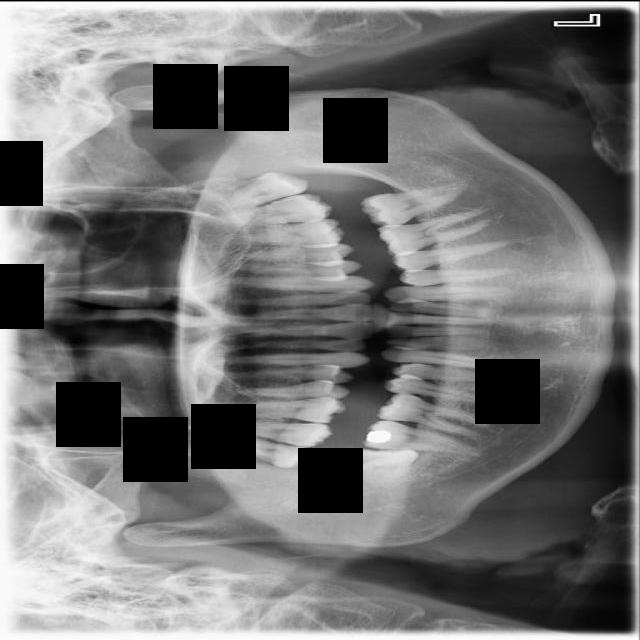3M ESPE Implant: (196, 423, 318, 474), (211, 162, 310, 216)
52: (359, 419, 416, 449)
73: (570, 30, 586, 34)
Blue Sky Bio Implant: (358, 180, 468, 232)
Caries: (216, 189, 335, 230), (205, 415, 334, 448)
Implant: (359, 417, 478, 455)
Keystone Dental Implant: (353, 445, 420, 490)
